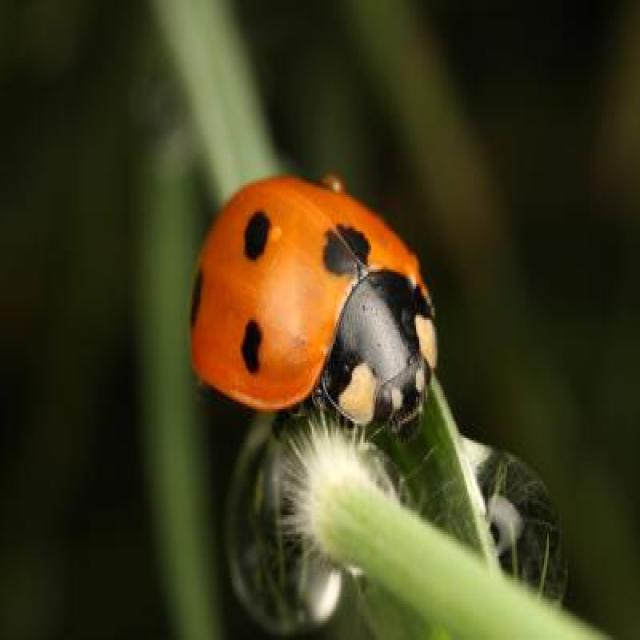body: (187, 174, 436, 424)
insect: (184, 171, 440, 443)
mouthpart: (383, 396, 428, 436)
wings: (190, 172, 435, 410)
